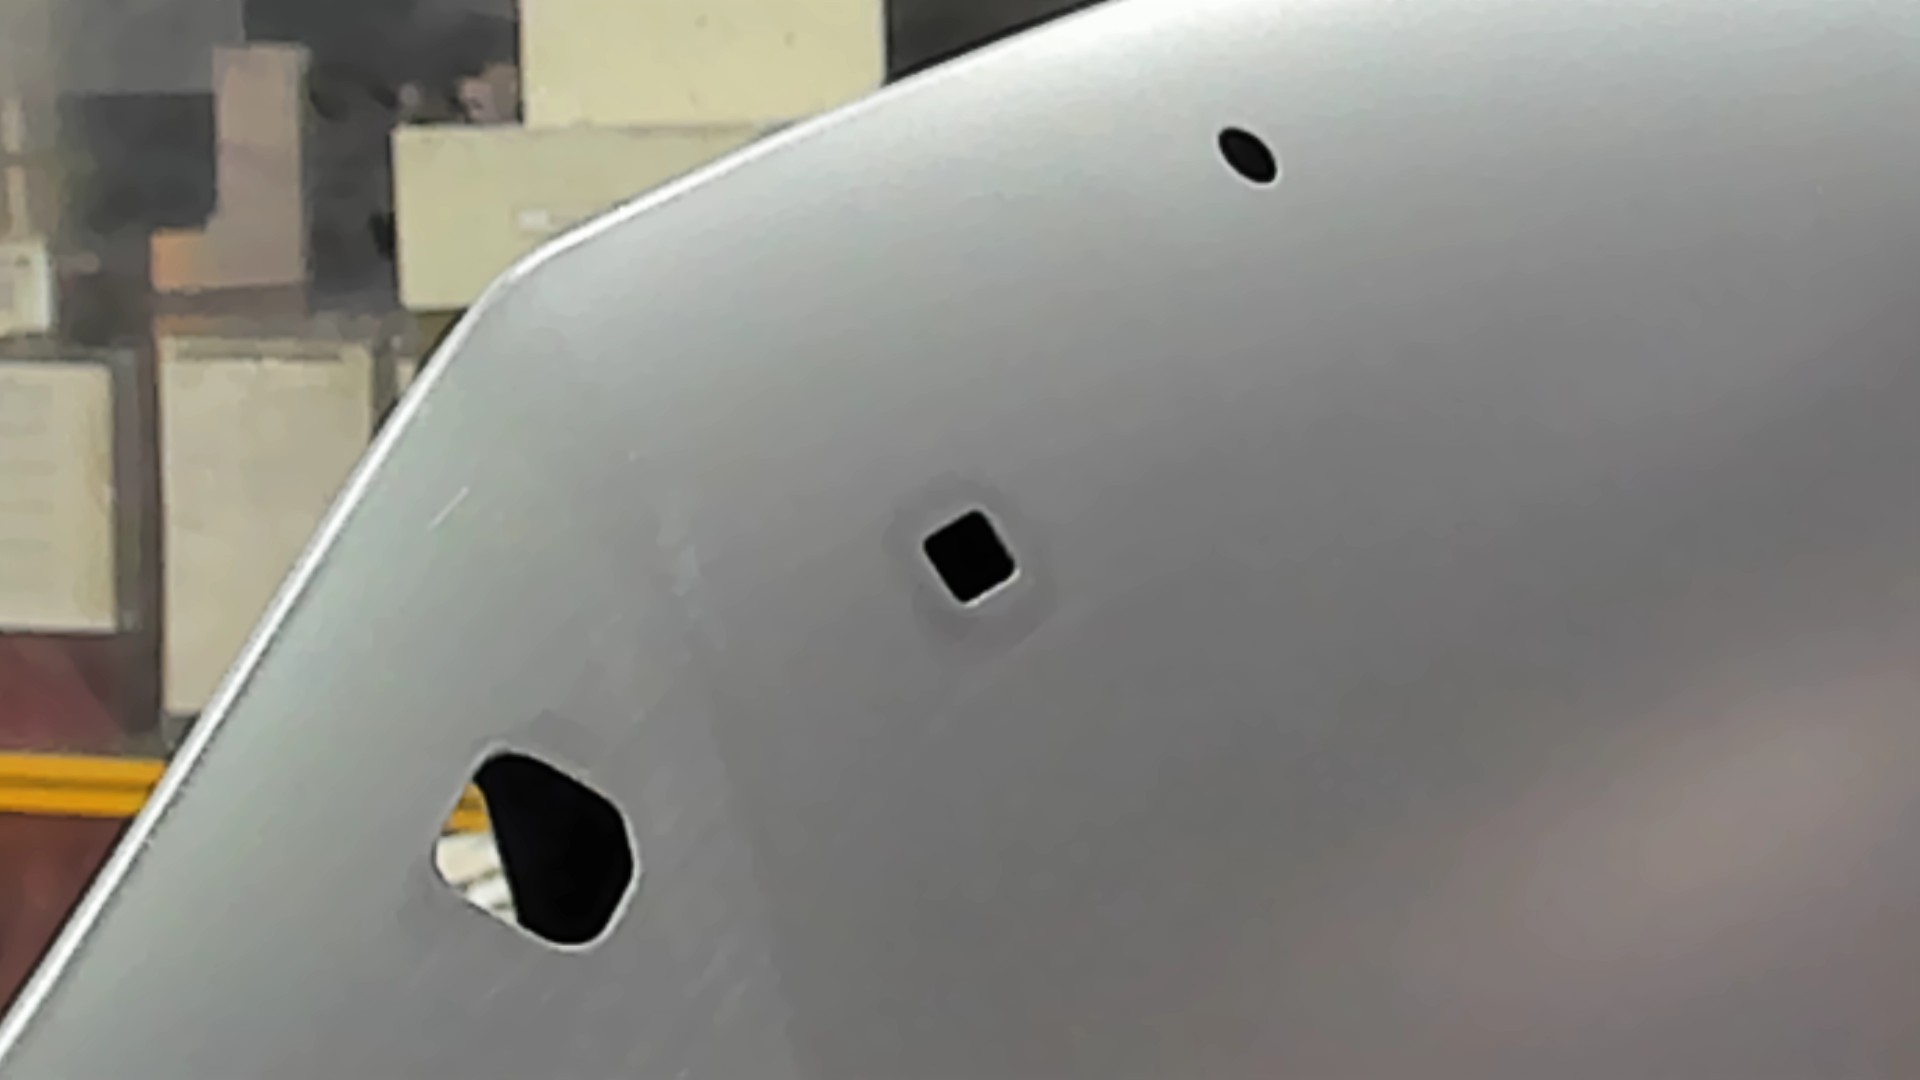chico: (1213, 119, 1282, 190)
grande: (425, 740, 642, 964)
mediano: (910, 502, 1027, 617)
